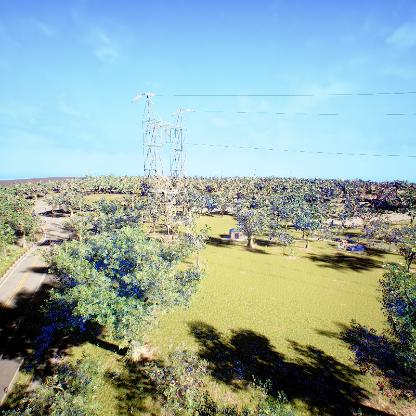tower: (128, 92, 198, 261)
